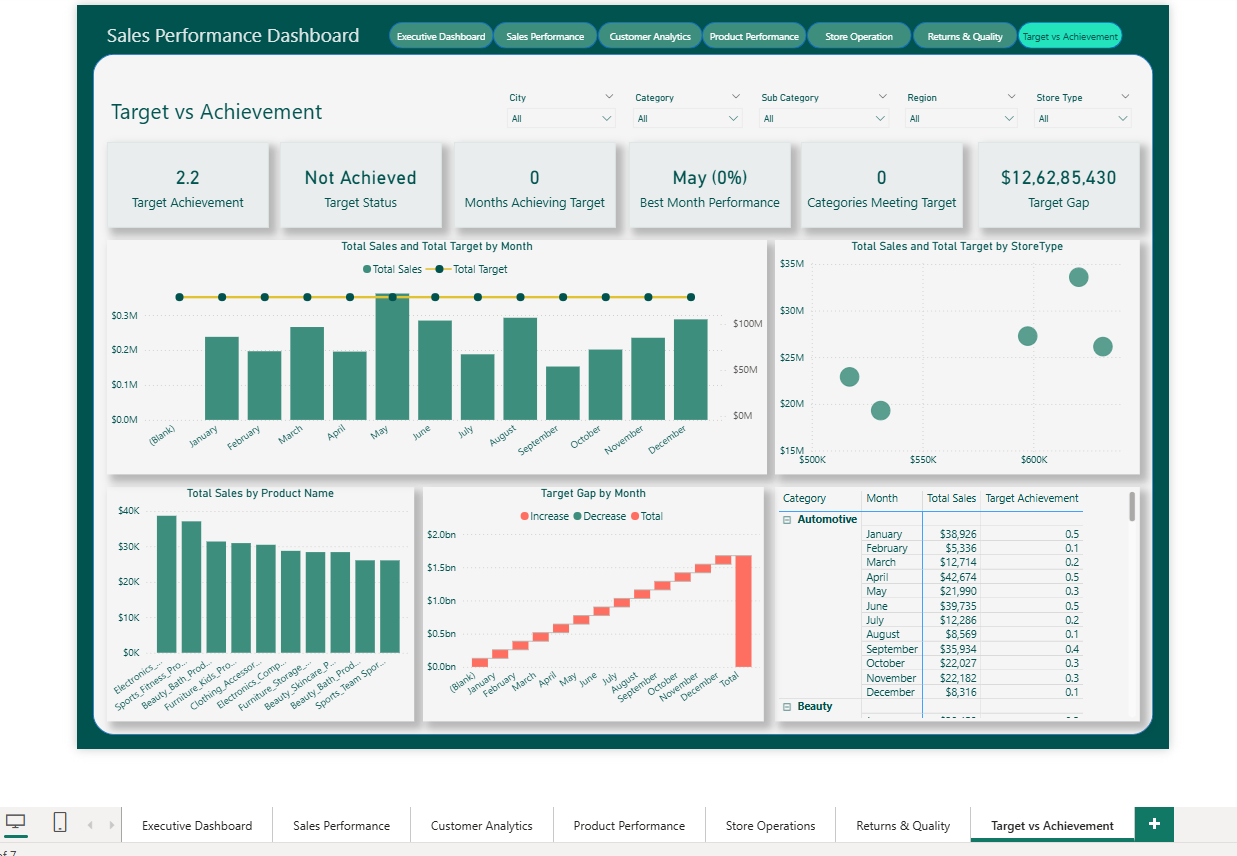

Layout of this report page (visuals, bound fields, positions):
{"tool":"powerbi","page":{"name":"Target vs Achievement","canvas":[1365,930],"ordinal":6},"visuals":[{"type":"shape","box":[390.6,21.6,130.6,33.2],"z":0,"group":"g3"},{"type":"shape","box":[19.5,61.8,1325.1,851],"z":0},{"type":"slicer","fields":{"Values":["Customer.City"]},"box":[528,104.2,155.7,57.9],"z":0,"group":"g1"},{"type":"card","title":"Total Sales","fields":{"Values":["All Measures.Target Achievement"]},"box":[37.8,171.8,201.8,106.5],"z":0,"group":"g2"},{"type":"shape","box":[521.2,21.6,130.6,33.2],"z":1000,"group":"g3"},{"type":"group","id":"g1","title":"Group 1","box":[528,104.2,800.6,57.3],"z":1000},{"type":"slicer","fields":{"Values":["Product.Category"]},"box":[685.9,104.2,156.8,57.9],"z":1000,"group":"g1"},{"type":"card","title":"Total Sales","fields":{"Values":["All Measures.Target Status"]},"box":[253.9,171.8,201.8,106.5],"z":1000,"group":"g2"},{"type":"shape","box":[651.7,21.6,130.6,33.2],"z":2000,"group":"g3"},{"type":"slicer","fields":{"Values":["Store.Region"]},"box":[1025.3,104.2,161.3,57.9],"z":2000,"group":"g1"},{"type":"textbox","box":[37.8,108.8,290.9,52.7],"z":2000},{"type":"card","title":"Total Sales","fields":{"Values":["All Measures.Months Achieving Target"]},"box":[471.2,171.8,201.8,106.5],"z":2000,"group":"g2"},{"type":"shape","box":[782.3,21.6,130.6,33.2],"z":3000,"group":"g3"},{"type":"slicer","fields":{"Values":["Store.StoreType"]},"box":[1186.6,104.2,142.2,57.9],"z":3000,"group":"g1"},{"type":"group","id":"g2","title":"Group 2","box":[37.8,171.8,1290.8,106.5],"z":3000},{"type":"card","title":"Total Sales","fields":{"Values":["All Measures.Best Month Performance"]},"box":[689.8,171.8,201.8,106.5],"z":3000,"group":"g2"},{"type":"shape","box":[37.8,19.5,333.3,36.7],"z":4000},{"type":"shape","box":[912.9,21.6,130.6,33.2],"z":4000,"group":"g3"},{"type":"slicer","fields":{"Values":["Product.SubCategory"]},"box":[842.7,104.2,182.6,57.9],"z":4000,"group":"g1"},{"type":"card","title":"Total Sales","fields":{"Values":["All Measures.Categories Meeting Target"]},"box":[905.9,171.8,201.8,106.5],"z":4000,"group":"g2"},{"type":"shape","box":[1045.7,21.6,130.6,33.2],"z":5000,"group":"g3"},{"type":"card","title":"Total Sales","fields":{"Values":["All Measures.Target Gap"]},"box":[1126.8,171.8,201.8,106.5],"z":5000,"group":"g2"},{"type":"lineStackedColumnComboChart","fields":{"Category":["Product.ProductName"],"Y":["All Measures.Total Sales"]},"box":[37.8,602.4,383.7,293.2],"z":5000},{"type":"shape","box":[1176.3,21.6,130.6,33.2],"z":6000,"group":"g3"},{"type":"lineClusteredColumnComboChart","fields":{"Category":["Date.Date.Variation.Date Hierarchy.Month"],"Y":["All Measures.Total Sales"],"Y2":["All Measures.Total Target"]},"box":[37.8,294.3,824.6,293.2],"z":6000},{"type":"scatterChart","fields":{"X":["All Measures.Total Sales"],"Category":["Store.StoreType"],"Y":["All Measures.Total Target"]},"box":[872.7,294.3,455.8,293.2],"z":7000},{"type":"pivotTable","fields":{"Values":["All Measures.Total Sales","All Measures.Target Achievement"],"Rows":["Product.Category","Date.Date.Variation.Date Hierarchy.Month"]},"box":[872.7,602.4,455.8,293.2],"z":8000},{"type":"waterfallChart","fields":{"Y":["All Measures.Target Gap"],"Category":["Date.Date.Variation.Date Hierarchy.Month"]},"box":[432.9,602.4,426.1,293.2],"z":9000},{"type":"group","id":"g3","title":"Group 3","box":[390.6,21.6,916.3,33.2],"z":9008}]}

Visuals, with their boxes on the page's 1365x930 design canvas (x1, y1, x2, y2). These are canvas units, not pixel positions in the 1237x856 screenshot, which may show the page scaled, cropped or inside an application window:
shape: locate(391, 22, 521, 55)
shape: locate(20, 62, 1345, 913)
slicer - Customer.City: locate(528, 104, 684, 162)
"Total Sales" card: locate(38, 172, 240, 278)
shape: locate(521, 22, 652, 55)
"Group 1" group: locate(528, 104, 1329, 162)
slicer - Product.Category: locate(686, 104, 843, 162)
"Total Sales" card: locate(254, 172, 456, 278)
shape: locate(652, 22, 782, 55)
slicer - Store.Region: locate(1025, 104, 1187, 162)
textbox: locate(38, 109, 329, 162)
"Total Sales" card: locate(471, 172, 673, 278)
shape: locate(782, 22, 913, 55)
slicer - Store.StoreType: locate(1187, 104, 1329, 162)
"Group 2" group: locate(38, 172, 1329, 278)
"Total Sales" card: locate(690, 172, 892, 278)
shape: locate(38, 20, 371, 56)
shape: locate(913, 22, 1044, 55)
slicer - Product.SubCategory: locate(843, 104, 1025, 162)
"Total Sales" card: locate(906, 172, 1108, 278)
shape: locate(1046, 22, 1176, 55)
"Total Sales" card: locate(1127, 172, 1329, 278)
lineStackedColumnComboChart - Product.ProductName x All Measures.Total Sales: locate(38, 602, 422, 896)
shape: locate(1176, 22, 1307, 55)
lineClusteredColumnComboChart - Date.Date.Variation.Date Hierarchy.Month x All Measures.Total Sales: locate(38, 294, 862, 588)
scatterChart - All Measures.Total Sales x Store.StoreType: locate(873, 294, 1328, 588)
pivotTable - All Measures.Total Sales x All Measures.Target Achievement: locate(873, 602, 1328, 896)
waterfallChart - All Measures.Target Gap x Date.Date.Variation.Date Hierarchy.Month: locate(433, 602, 859, 896)
"Group 3" group: locate(391, 22, 1307, 55)
